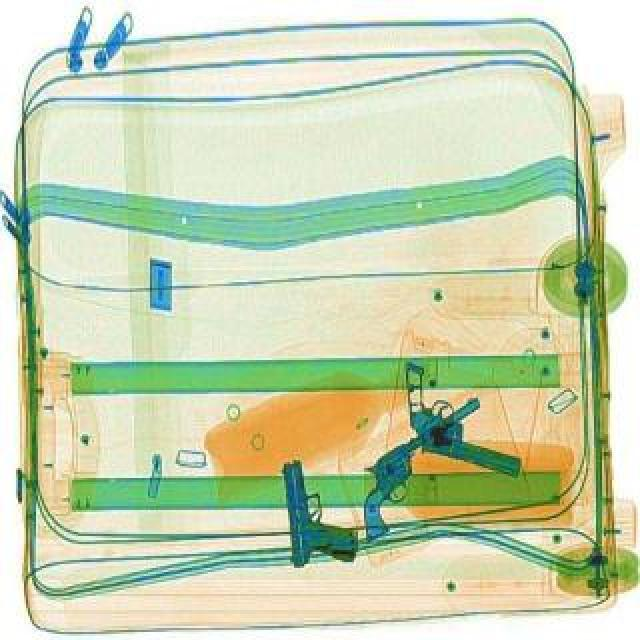gun: (328, 394, 516, 542), (374, 358, 546, 478), (278, 452, 354, 564)
